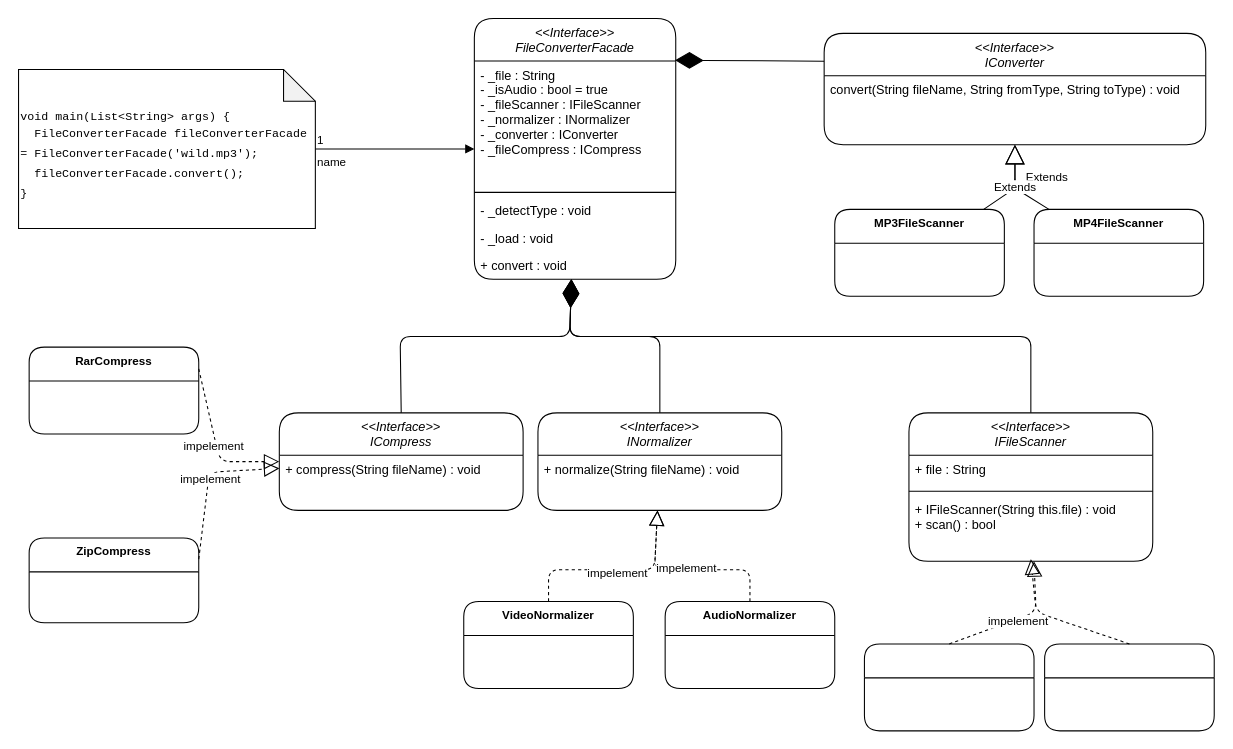
Some shapes in this 1233 by 749 pixel diagram are drawn without their labels. Here are the shapes that lost their labels. From the top down, the box of each, then its label:
(863, 643, 1034, 731): AudioConverter
(1044, 643, 1214, 731): VideoConverter
